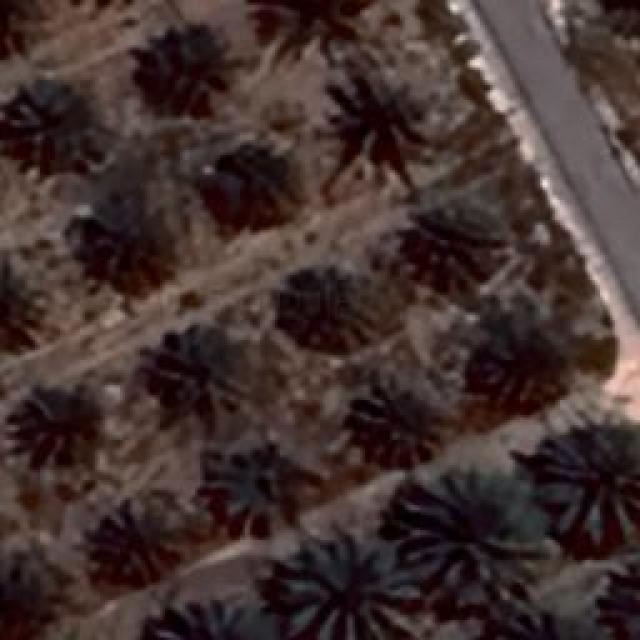PalmTree: (392, 462, 550, 600), (272, 530, 420, 635), (534, 430, 638, 542), (476, 324, 559, 402), (286, 264, 366, 344), (2, 92, 96, 160), (351, 392, 434, 466), (339, 95, 429, 160), (255, 0, 360, 55), (97, 498, 175, 572), (161, 334, 234, 412), (89, 205, 159, 285), (142, 36, 218, 109), (419, 208, 489, 286), (222, 452, 302, 520), (0, 562, 68, 640), (210, 152, 285, 222), (23, 388, 86, 462), (466, 600, 580, 640), (147, 595, 260, 635), (593, 558, 640, 640), (0, 257, 42, 337), (0, 0, 52, 64), (591, 0, 639, 44)
